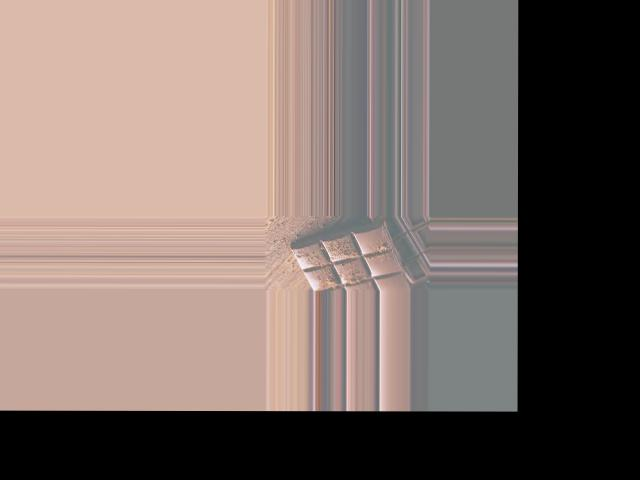chocolate: (284, 222, 411, 289)
